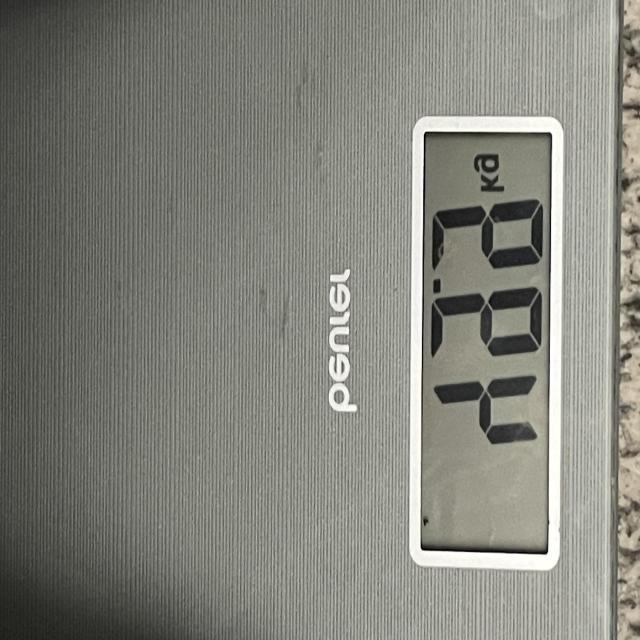ws: (410, 117, 563, 576)
